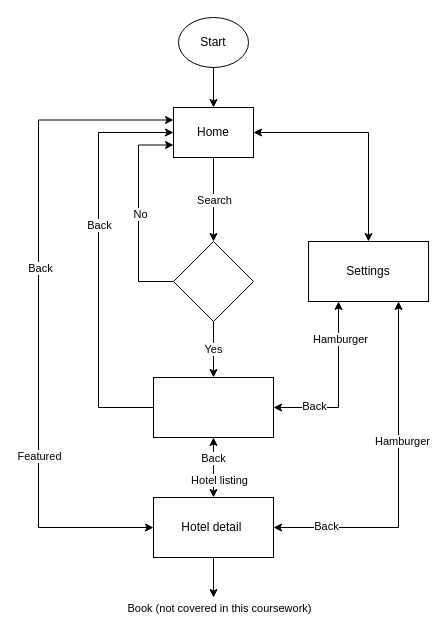
The diagram is 447 pixels wide and 632 high, and some of its shapes have lost their labels. The shapes that lost their labels are listed below. From the top down, each one's centre as x and y in pixels, then its label:
[213,281]: Is search form valid?
[213,407]: Search Results
